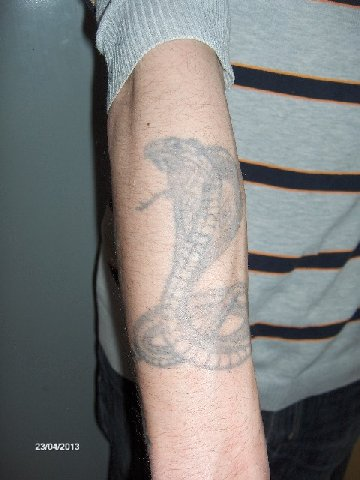tatu7_zmeya: (136, 126, 254, 389)
